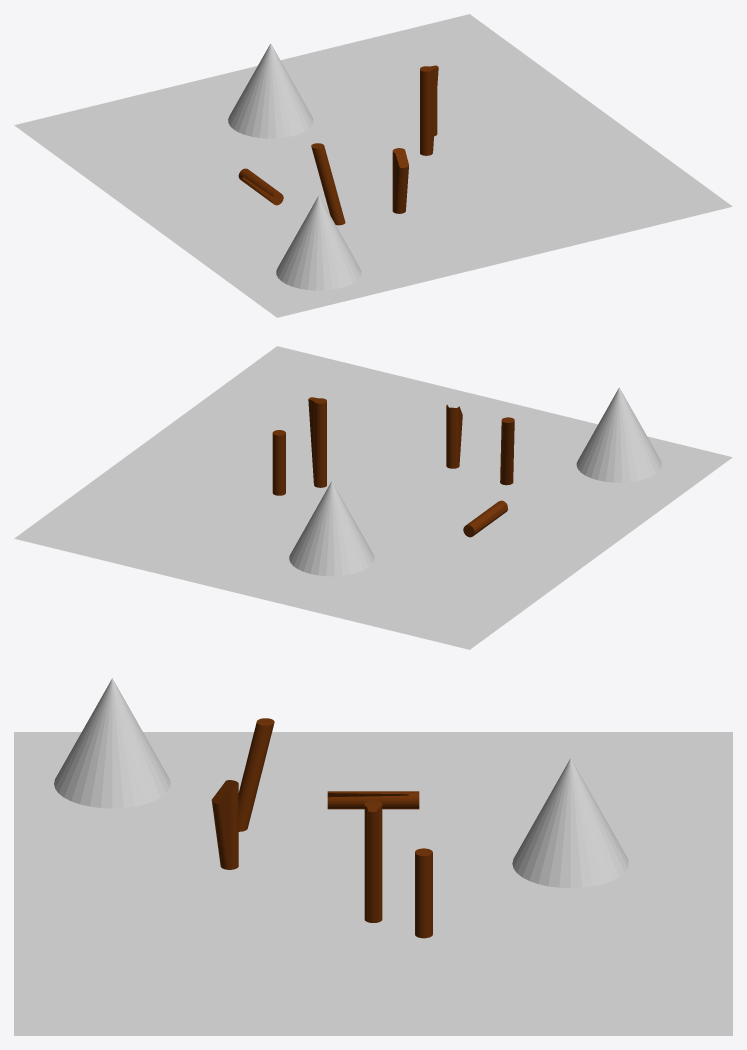
The picture shows the model from 3 angles, top to bottom: view 1: azimuth 30°, elevation 25°; view 2: azimuth 150°, elevation 25°; view 3: azimuth 270°, elevation 25°; orthographic projection. The views are drawn at different scales.
Visible parts, largest first — view 1: Plane.001, Cone.001, Cone, Cylinder.007, Cylinder.008, Cylinder.006, Cylinder.009; view 2: Plane.001, Cone, Cone.001, Cylinder.007, Cylinder.006, Cylinder.008, Cylinder.005, Cylinder.009; view 3: Plane.001, Cone.001, Cone, Cylinder.007, Cylinder.006, Cylinder.008, Cylinder.009, Cylinder.005.
Boxes of the visible parts, x1,y1,x2,y2 form: Plane.001: (14,14,732,317); Cone.001: (276,195,361,290); Cone: (228,43,313,138); Cylinder.007: (420,65,438,155); Cylinder.008: (311,143,345,225); Cylinder.006: (392,148,408,213); Cylinder.009: (238,168,283,205); Plane.001: (14,346,732,649); Cone: (289,481,374,576); Cone.001: (576,387,661,482); Cylinder.007: (308,397,326,487); Cylinder.006: (446,404,462,468); Cylinder.008: (500,417,514,485); Cylinder.005: (272,430,285,495); Cylinder.009: (463,500,507,537); Plane.001: (14,732,732,1035); Cone.001: (54,678,170,808); Cone: (512,758,628,888); Cylinder.007: (364,800,382,922); Cylinder.006: (211,780,238,869); Cylinder.008: (238,718,274,831); Cylinder.009: (327,791,419,809); Cylinder.005: (415,848,432,938).
Size of the model in its own units: 80 by 15.05 by 80.
